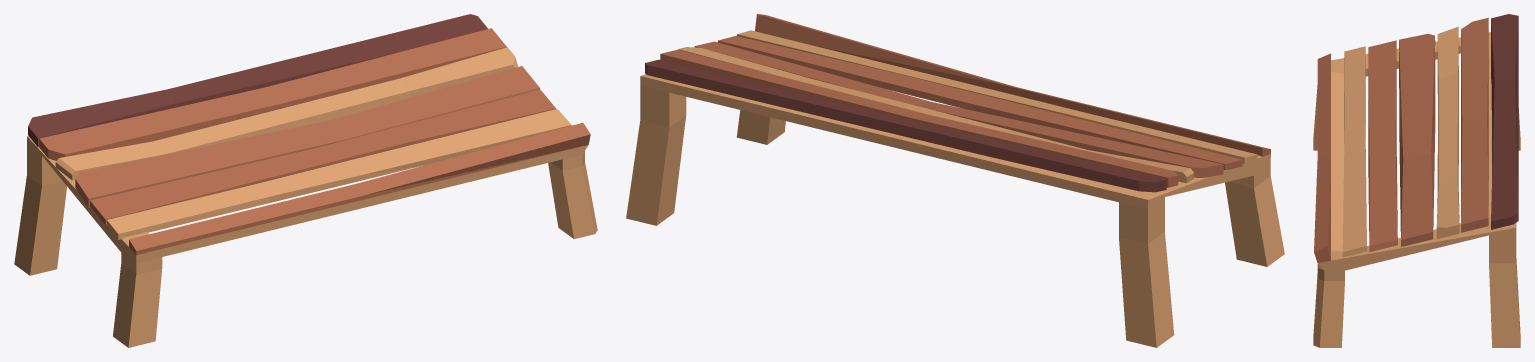
Rendered from Sellers Table 02.fbx.
3 renders of one model, left to right at view 1: azimuth 30°, elevation 25°; view 2: azimuth 150°, elevation 25°; view 3: azimuth 270°, elevation 25°, orthographic. The views are drawn at different scales.
Visible parts, largest first — view 1: Sellers Table 02; view 2: Sellers Table 02; view 3: Sellers Table 02.
Boxes of the visible parts, box(x1,y1,x2,y2) form: Sellers Table 02: box(14, 14, 597, 347); Sellers Table 02: box(626, 14, 1284, 347); Sellers Table 02: box(1313, 14, 1520, 347).
Size of the model in its own units: 250 by 72.7 by 105.
